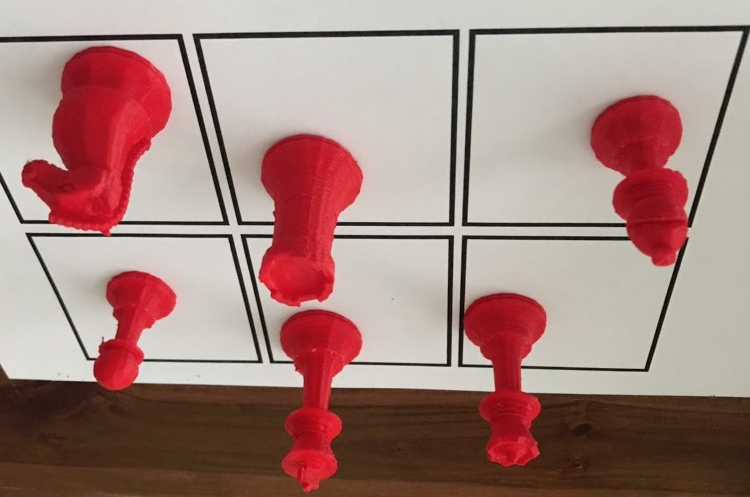Red Bishop: (577, 77, 704, 271)
Red Castle: (243, 125, 368, 315)
Red King: (259, 306, 373, 496)
Red Knight: (11, 39, 177, 240)
Red Pawn: (79, 262, 179, 399)
Red Queen: (454, 285, 562, 472)
